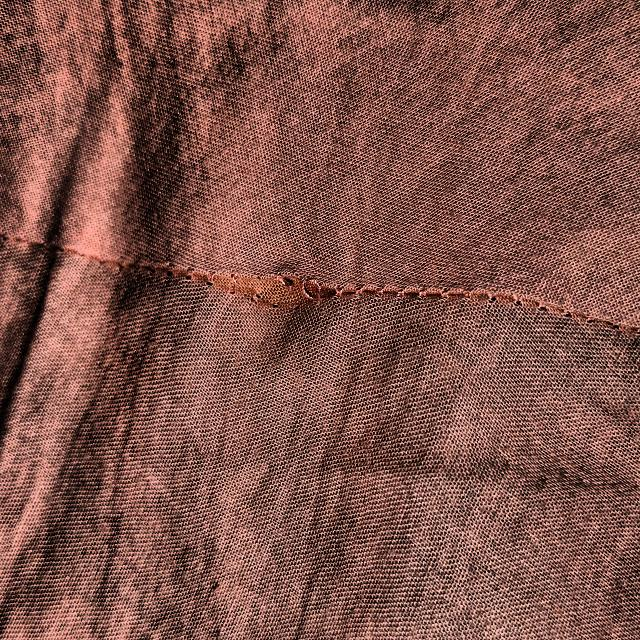seam: (172, 252, 402, 346)
